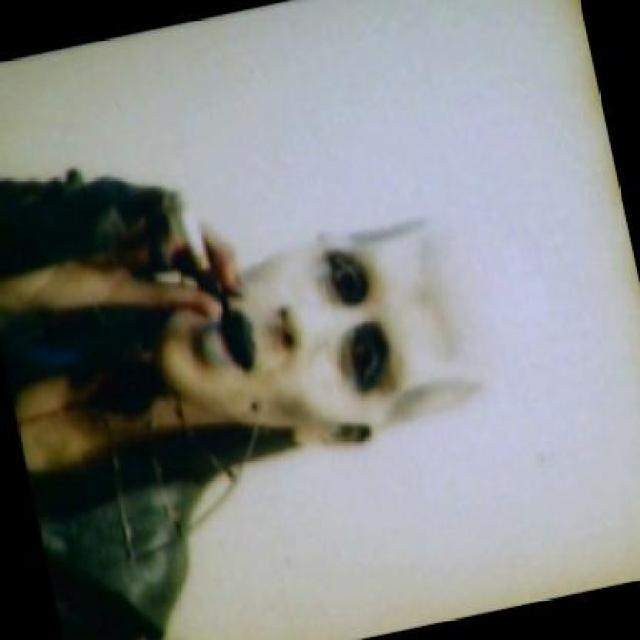smoke: (162, 174, 213, 277)
